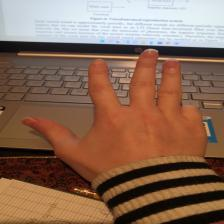five: (32, 47, 212, 179)
